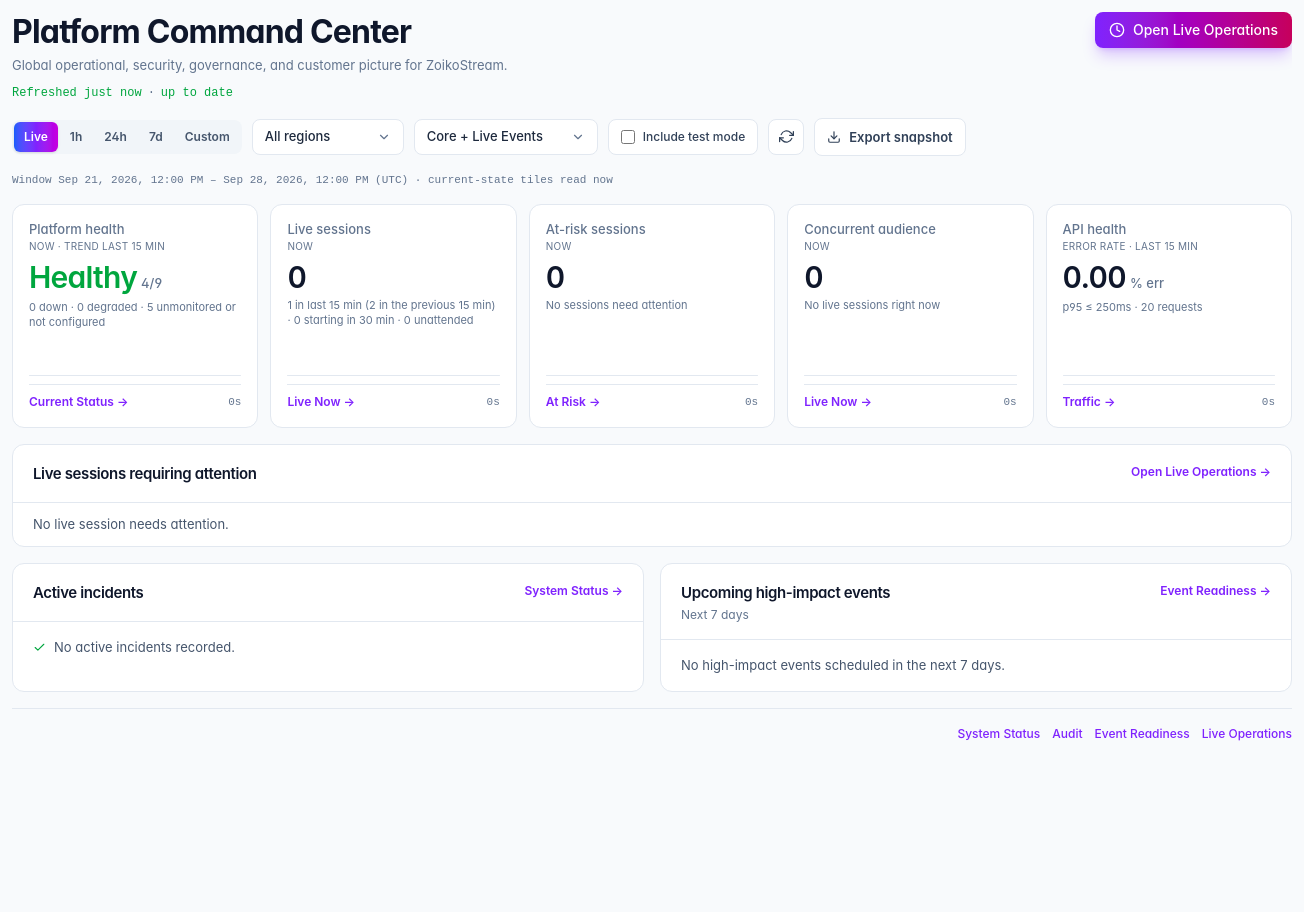
Test: export and failed refetches › says so, and blocks export, when the selected window fails to load
The image size is (1304, 912).
Expected: the text "Live sessions" is shown, [287,221,371,237]
Click the button "24h" at (116, 136), box [94,122,137,152]
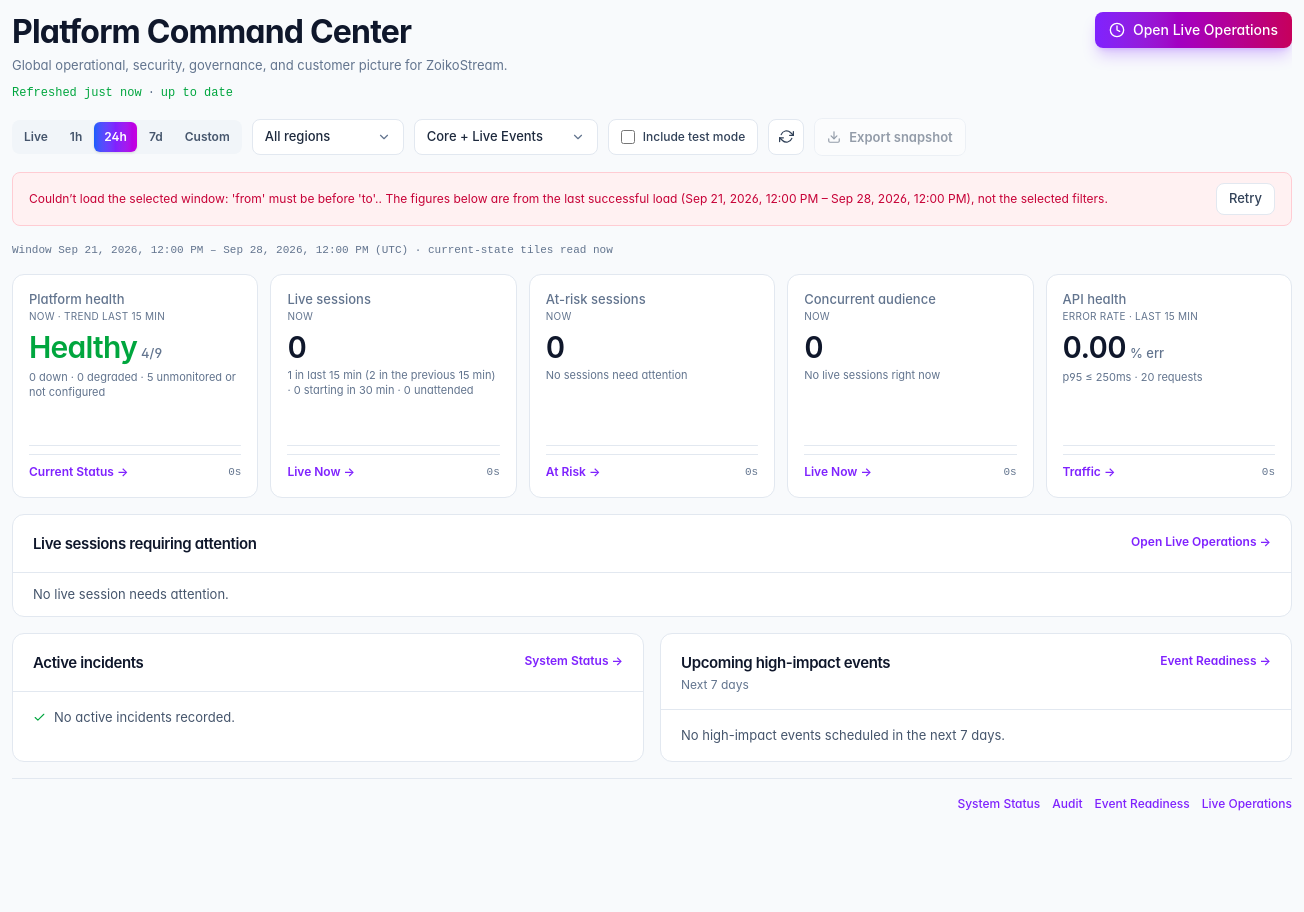
Now the text "Couldn’t load the selected window" shows "'from' must be before 'to'.", box [232,190,379,206]
Now the button "Export snapshot" is disabled, box [814,118,966,156]
